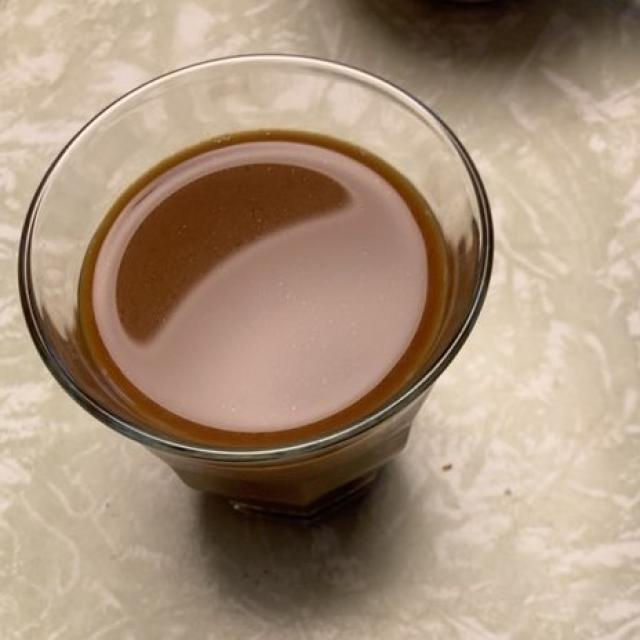coffee: (97, 134, 432, 427)
